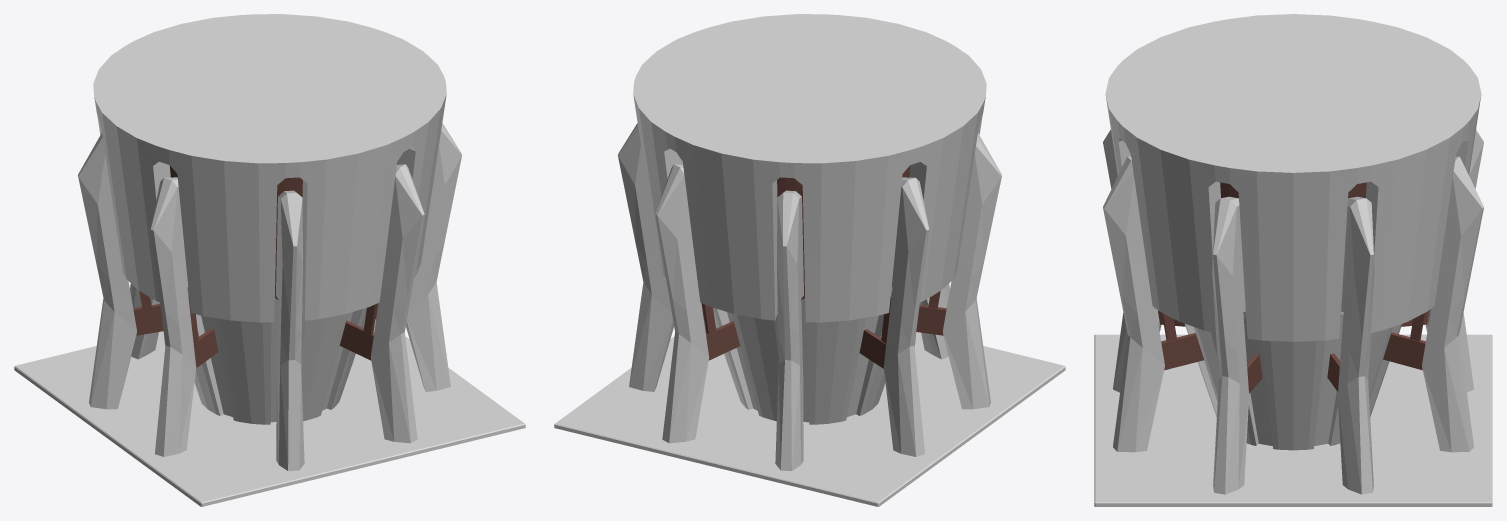
File: 4x4A-old.glb
3 views of the same model, side by side, from view 1: azimuth 30°, elevation 25°; view 2: azimuth 150°, elevation 25°; view 3: azimuth 270°, elevation 25° (orthographic). The views are drawn at different scales.
Parts seen in each view (by area): view 1: 4x4A; view 2: 4x4A; view 3: 4x4A.
Part boxes in pixels (x1,y1,x2,y2): 4x4A: (14,14,525,506); 4x4A: (554,14,1065,506); 4x4A: (1094,14,1492,506).
Bounding box in the file's own units: 4 × 3.65 × 4.
